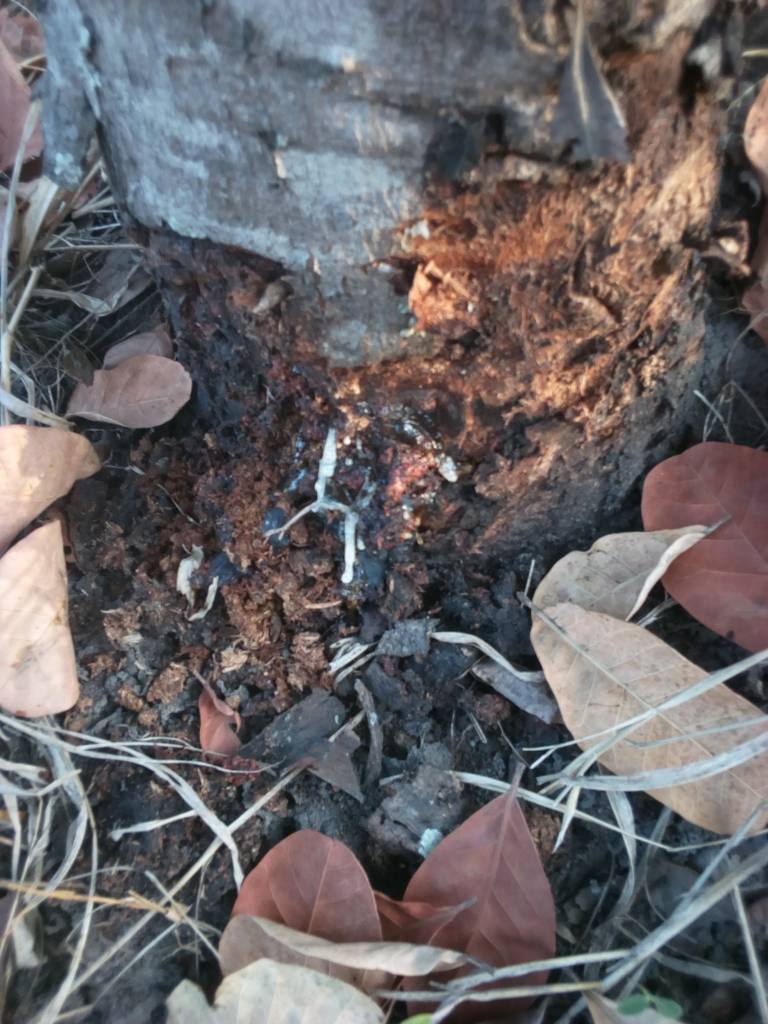ploceadorus ferrugineus: (160, 99, 727, 727)
